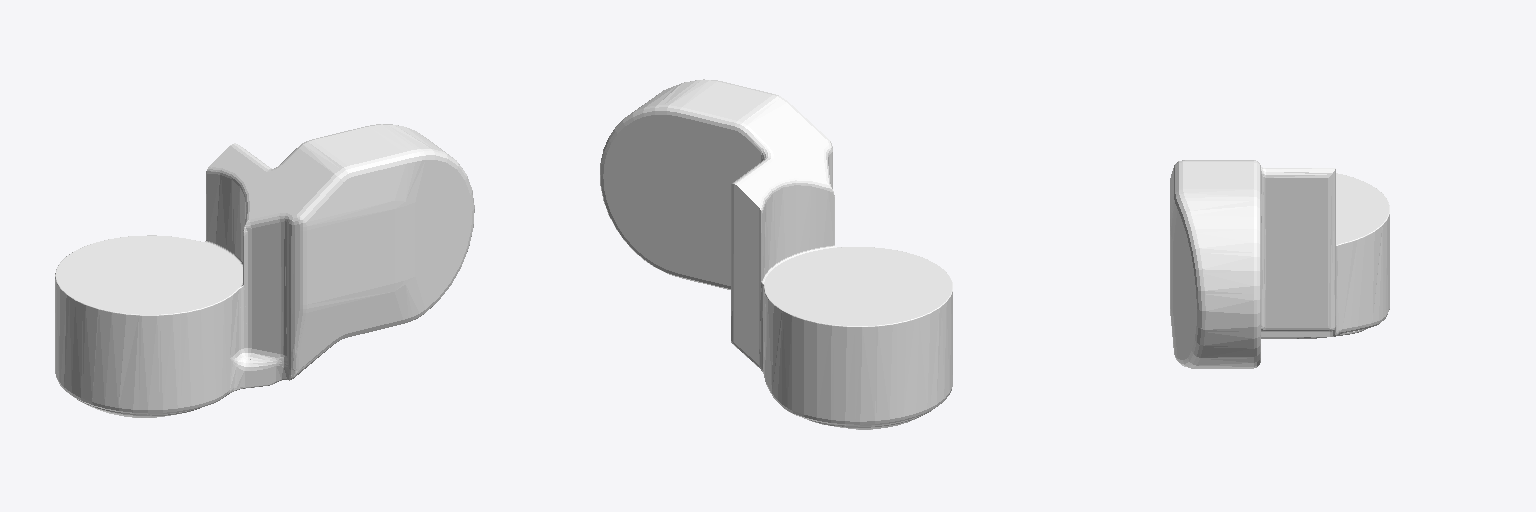
File: arm_1.obj
3 renders of one model, left to right at view 1: azimuth 30°, elevation 25°; view 2: azimuth 150°, elevation 25°; view 3: azimuth 270°, elevation 25°, orthographic.
Visible parts, largest first — view 1: arm_1; view 2: arm_1; view 3: arm_1.
Part boxes in pixels (bbox=[...]): arm_1: bbox=[55, 124, 474, 417]; arm_1: bbox=[600, 79, 952, 429]; arm_1: bbox=[1170, 160, 1389, 368].
Size of the model in its own units: 0.2285 by 0.139 by 0.1209.